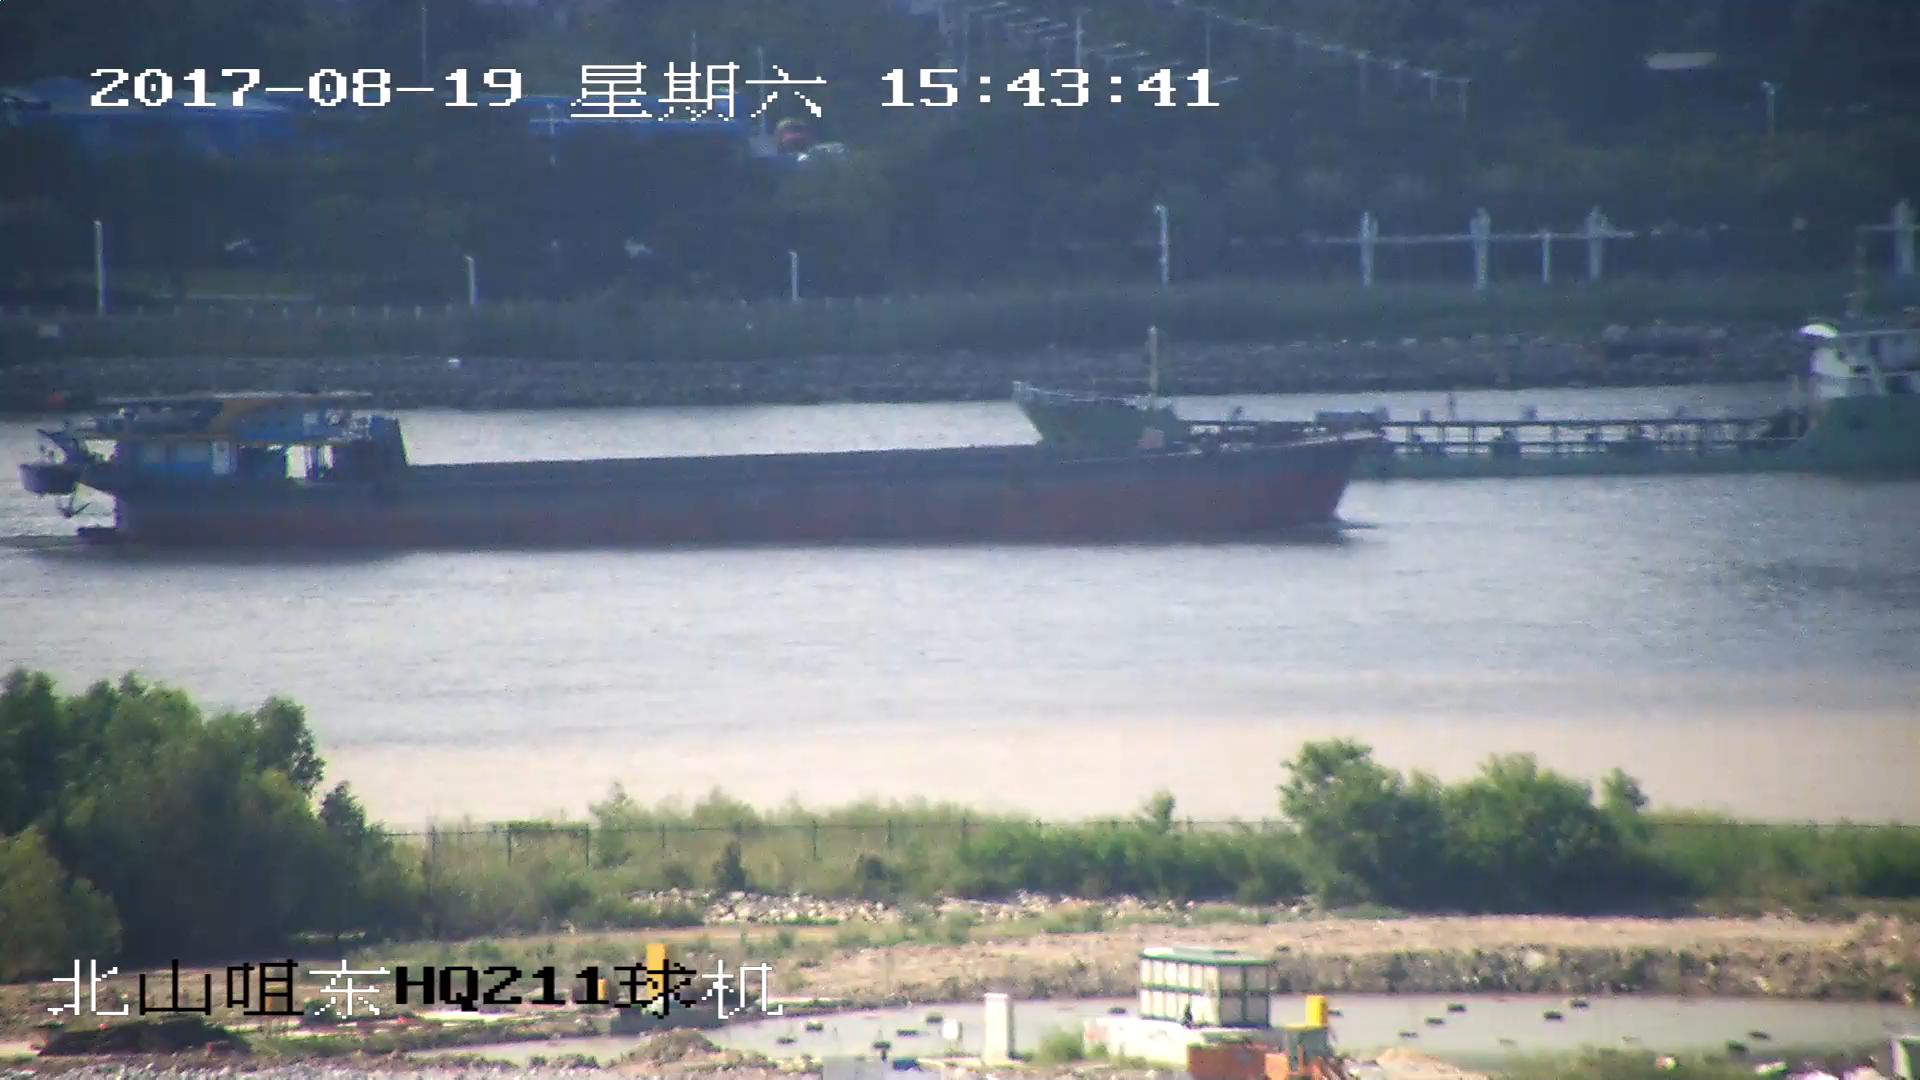bulk cargo carrier: (38, 379, 1364, 545)
general cargo ship: (1021, 325, 1920, 474)
